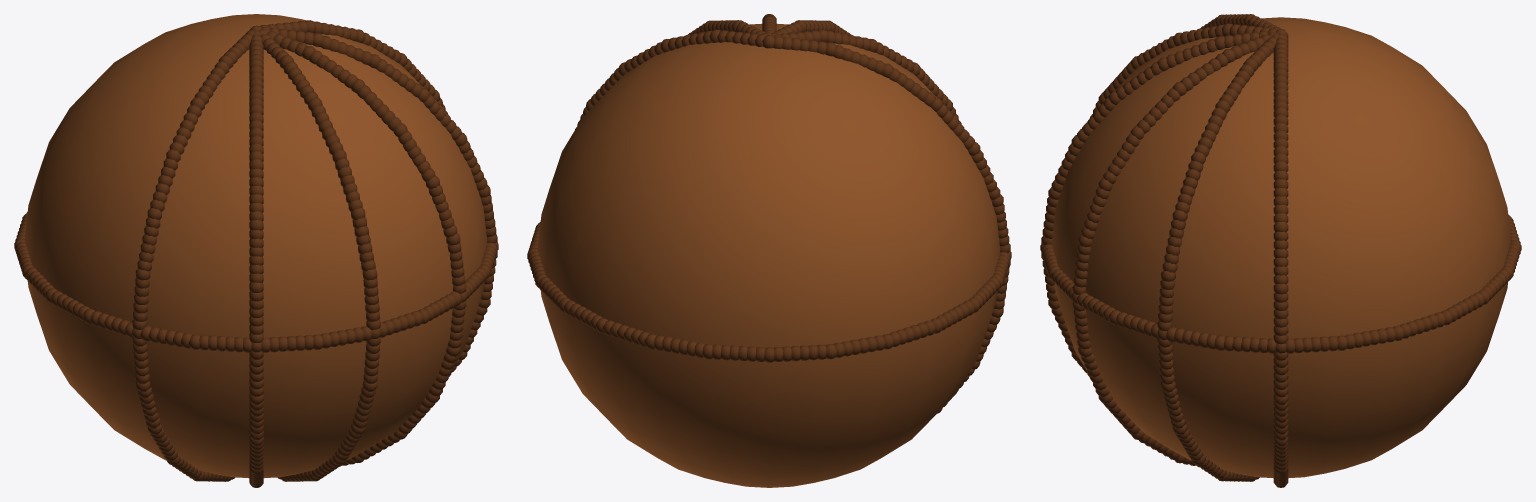
Rendered from bola_couro.glb.
3 renders of one model, left to right at view 1: azimuth 30°, elevation 25°; view 2: azimuth 150°, elevation 25°; view 3: azimuth 270°, elevation 25°, orthographic.
Parts seen in each view (by area): view 1: bola_couro; view 2: bola_couro; view 3: bola_couro.
Boxes of the visible parts, bbox=[...] form: bola_couro: bbox=[14, 14, 498, 487]; bola_couro: bbox=[527, 14, 1011, 487]; bola_couro: bbox=[1040, 14, 1521, 487].
Bounding box in the file's own units: 0.8548 × 0.8562 × 0.8548.
